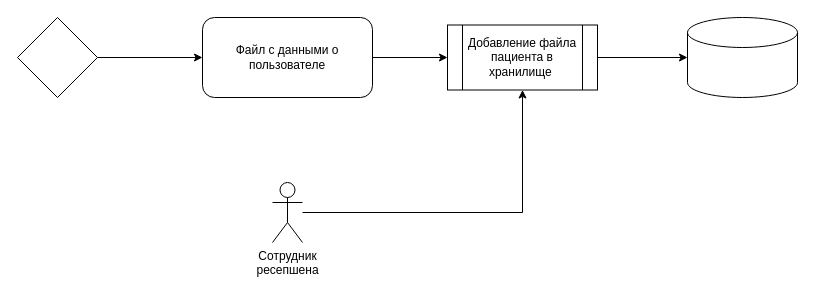
Image size: 815x296. Some labels were removed from this diagram. Here are the shapes that lost their labels. From the top down, the centre of each, then its label:
At point 57,57: "Начало".
At point 742,57: "Хранилище с файлами".
